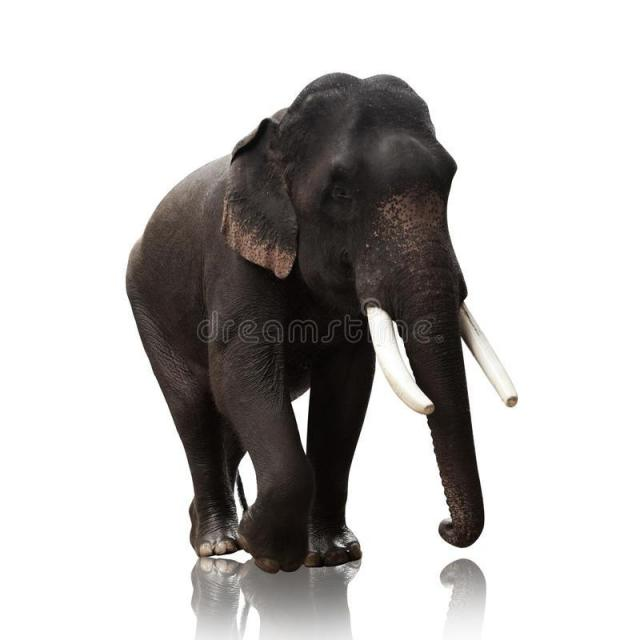Elephant: (113, 69, 528, 566)
